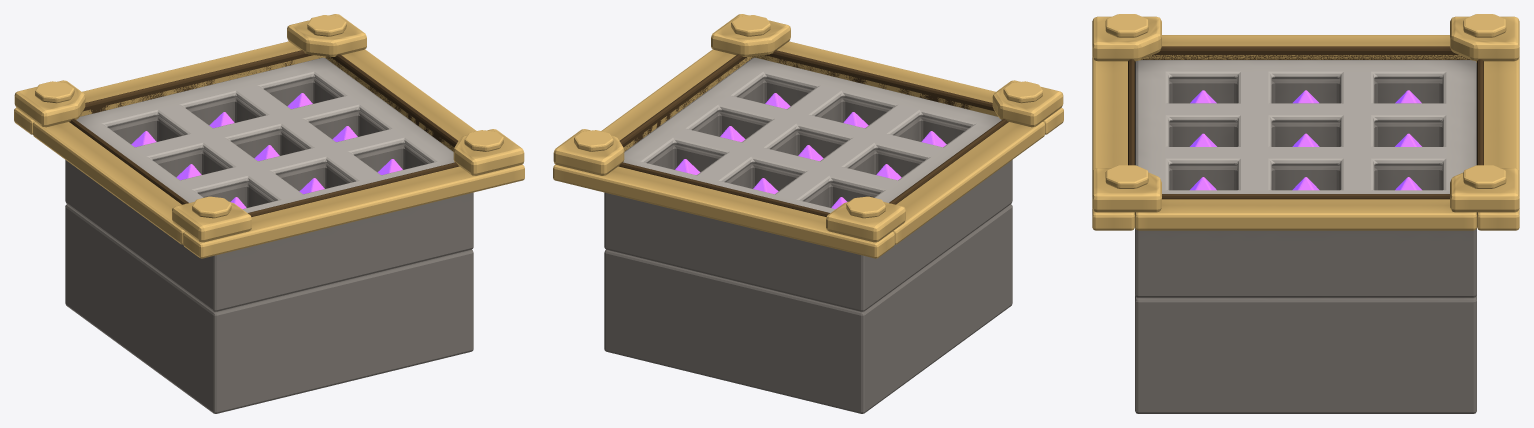
File: board_spikes_2.glb
The picture shows the model from 3 angles, left to right: view 1: azimuth 30°, elevation 25°; view 2: azimuth 150°, elevation 25°; view 3: azimuth 270°, elevation 25°; orthographic projection. The views are drawn at different scales.
Visible parts, largest first — view 1: BaseFloor, Base, Plate, Gold1, Gold3, Gold0, Gold2, GoldLine0, Bolt3, Bolt0, Bolt1, Bolt2 (+7 smaller); view 2: BaseFloor, Base, Plate, Gold0, Gold3, Gold1, Gold2, GoldLine1, Bolt1, Bolt2, Bolt0, Bolt3 (+7 smaller); view 3: BaseFloor, Base, Plate, Gold2, Gold3, Gold0, Gold1, GoldLine3, Bolt1, Bolt3, Bolt0, Bolt2 (+7 smaller).
Boxes of the visible parts, x1,y1,x2,y2 form: BaseFloor: (65,204,473,413); Base: (65,78,473,311); Plate: (76,57,454,212); Gold1: (183,164,524,258); Gold3: (33,121,184,244); Gold0: (14,41,325,134); Gold2: (325,49,476,151); GoldLine0: (83,50,313,113); Bolt3: (172,201,251,242); Bolt0: (287,14,366,56); Bolt1: (14,80,85,127); Bolt2: (453,129,524,175); BaseFloor: (604,204,1012,413); Base: (604,78,1012,311); Plate: (623,57,1001,212); Gold0: (553,164,894,258); Gold3: (893,121,1044,244); Gold1: (752,41,1063,134); Gold2: (601,49,752,151); GoldLine1: (752,50,994,111); Bolt1: (826,201,905,242); Bolt2: (711,14,790,56); Bolt0: (553,129,624,175); Bolt3: (992,80,1063,127); BaseFloor: (1135,295,1476,413); Base: (1135,79,1476,297); Plate: (1135,60,1476,193); Gold2: (1135,199,1476,230); Gold3: (1135,35,1476,62); Gold0: (1477,57,1519,230); Gold1: (1092,57,1134,230); GoldLine3: (1135,46,1470,62); Bolt1: (1450,16,1519,61); Bolt3: (1092,16,1161,61); Bolt0: (1450,168,1519,212); Bolt2: (1092,168,1161,212).
Size of the model in its own units: 1 by 0.6327 by 1.
